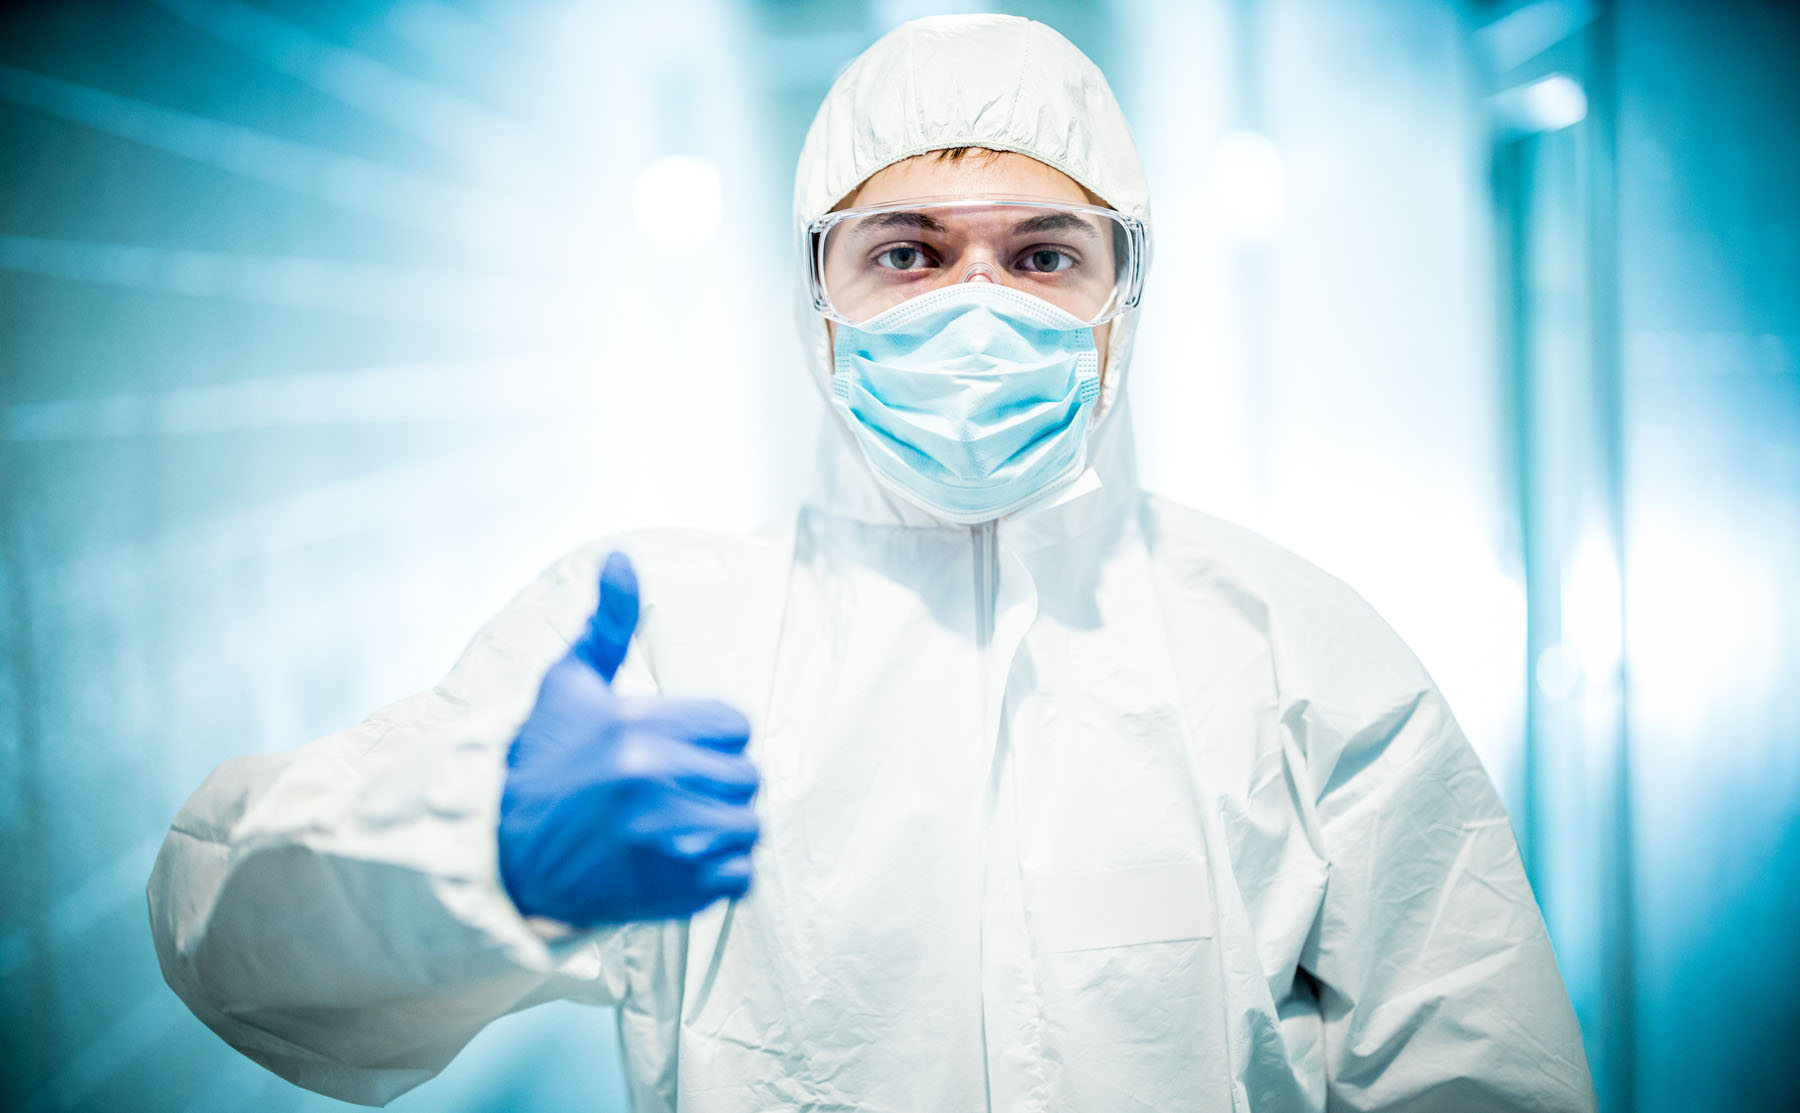Coverall: (154, 11, 1598, 1113)
Gloves: (510, 554, 764, 924)
Goggles: (804, 197, 1158, 335)
with_mask: (832, 276, 1124, 538)
